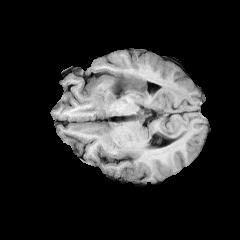glioma: (104, 72, 148, 99)
